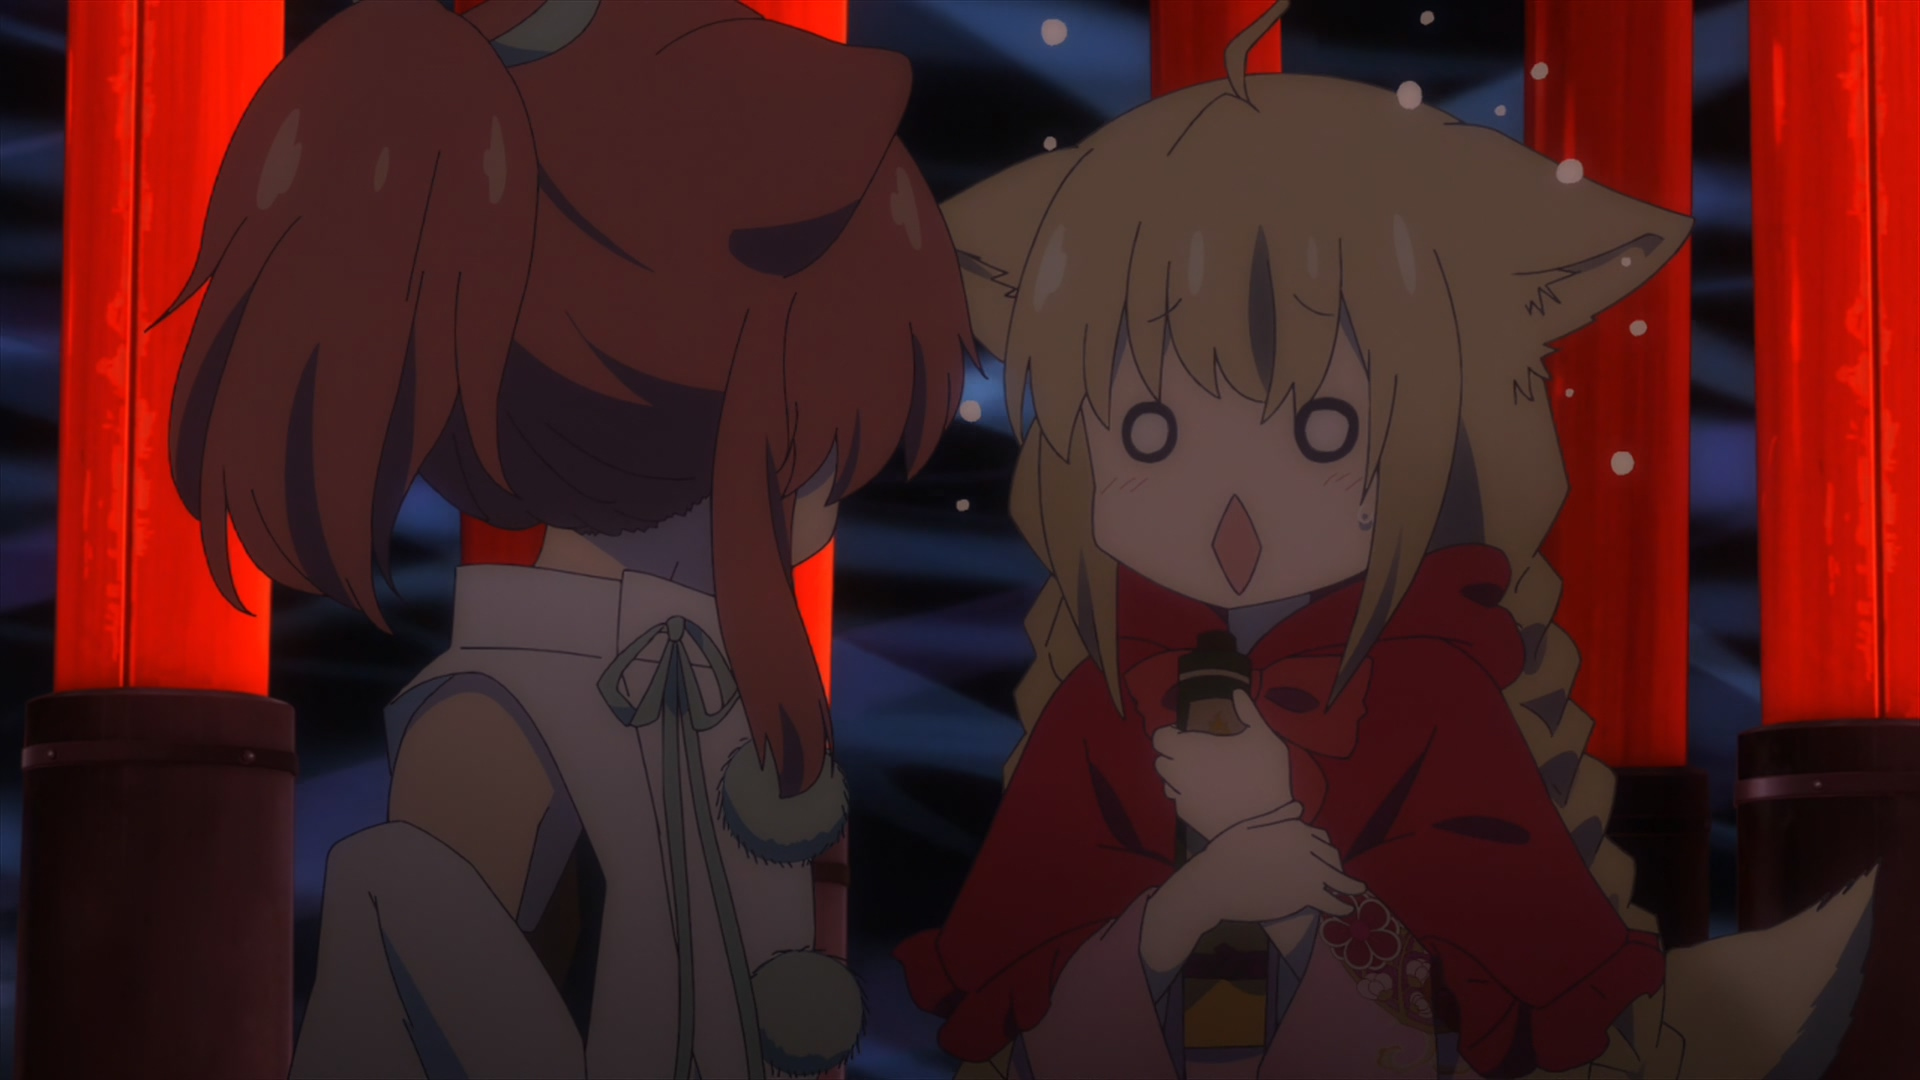柚: (897, 1, 1879, 1080)
椿: (144, 1, 985, 1080)
